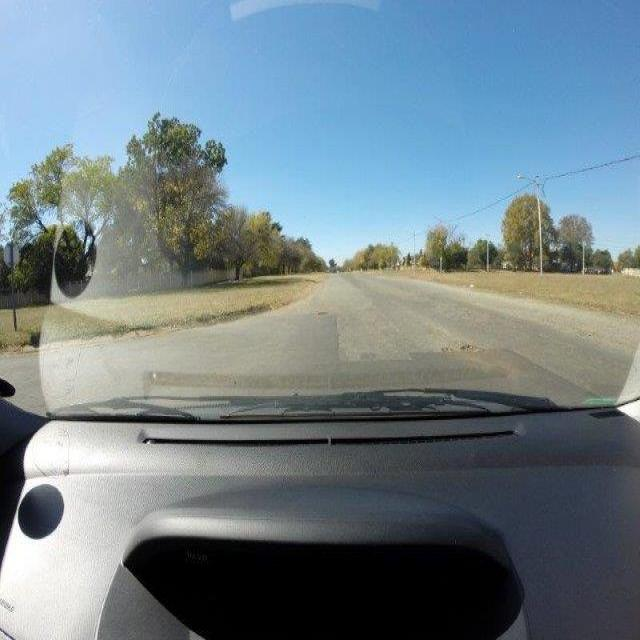lubang: (436, 340, 485, 364)
